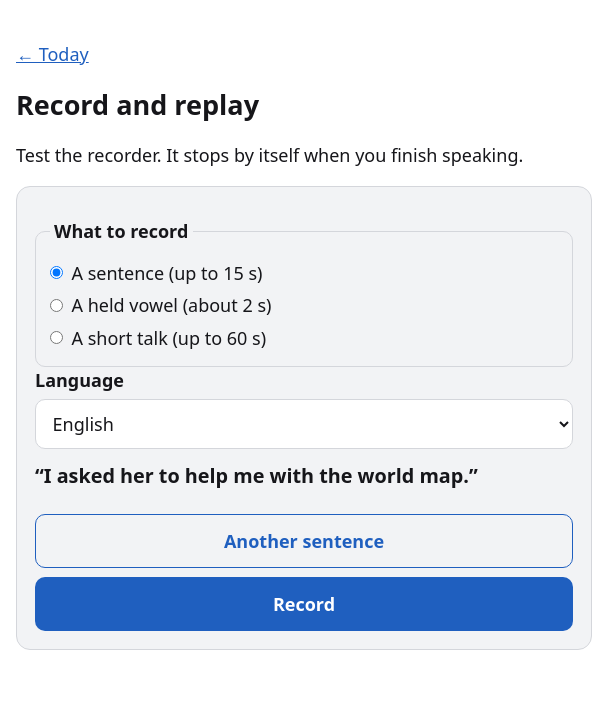
it: record screen › Recorder_Take_ShowsVerdictAndReadings
This screenshot has width=609, height=720.
Click the button "Record" at (304, 604), box top-left (35, 577), bottom-right (573, 631)
(page scrolled)
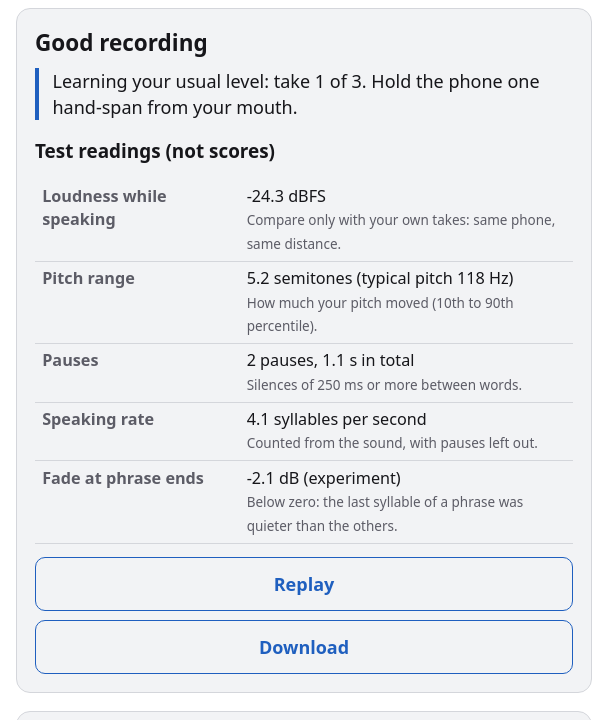
Expected: the heading "Good recording" is shown, top-left (35, 27), bottom-right (208, 58)
Expected: the heading "Test readings (not scores)" is shown, top-left (35, 138), bottom-right (275, 164)
Expected: the text "4.1 syllables per second" is shown, top-left (247, 408), bottom-right (427, 430)
